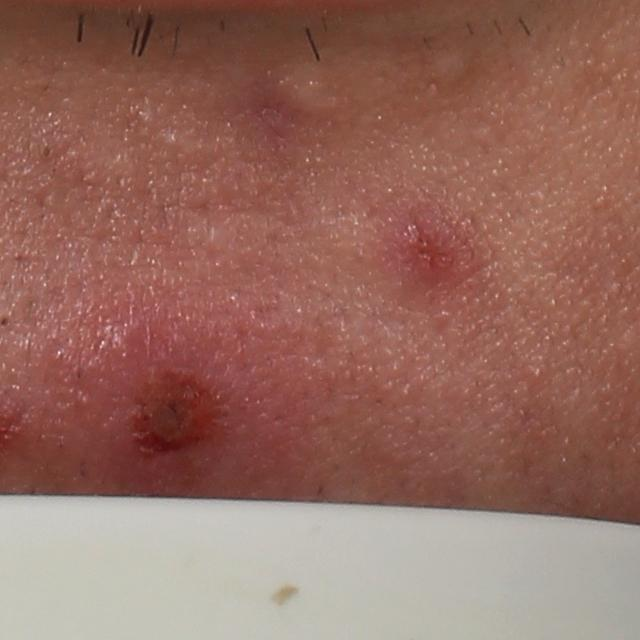comedo: (32, 133, 57, 166)
hypertrophic_scar: (271, 61, 343, 125), (428, 44, 477, 87)
nodule: (46, 294, 321, 493)
papule: (396, 217, 443, 272)
